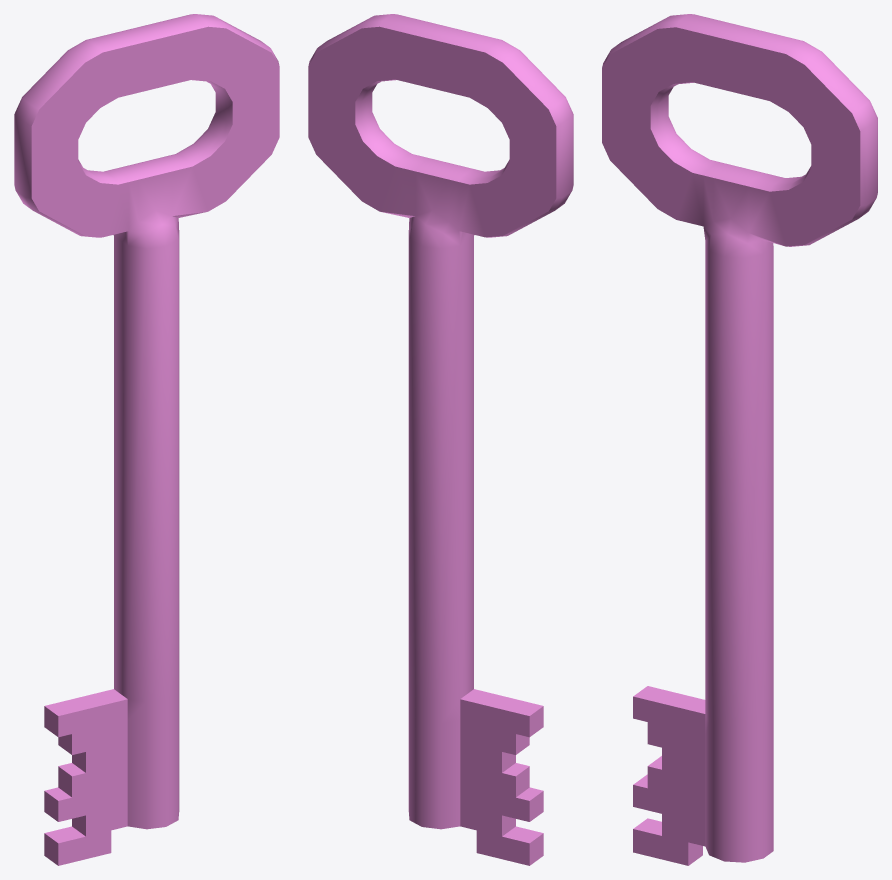
The model's file is Keys_25.FBX.
3 renders of one model, left to right at view 1: azimuth 30°, elevation 25°; view 2: azimuth 150°, elevation 25°; view 3: azimuth 330°, elevation 25°, orthographic. The views are drawn at different scales.
Parts seen in each view (by area): view 1: Keys_25; view 2: Keys_25; view 3: Keys_25.
Boxes of the visible parts, box(x1,y1,x2,y2) form: Keys_25: box(14, 14, 279, 865); Keys_25: box(308, 14, 573, 865); Keys_25: box(602, 14, 877, 865).
Bounding box in the file's own units: 1.1 × 3.36 × 0.2585.
